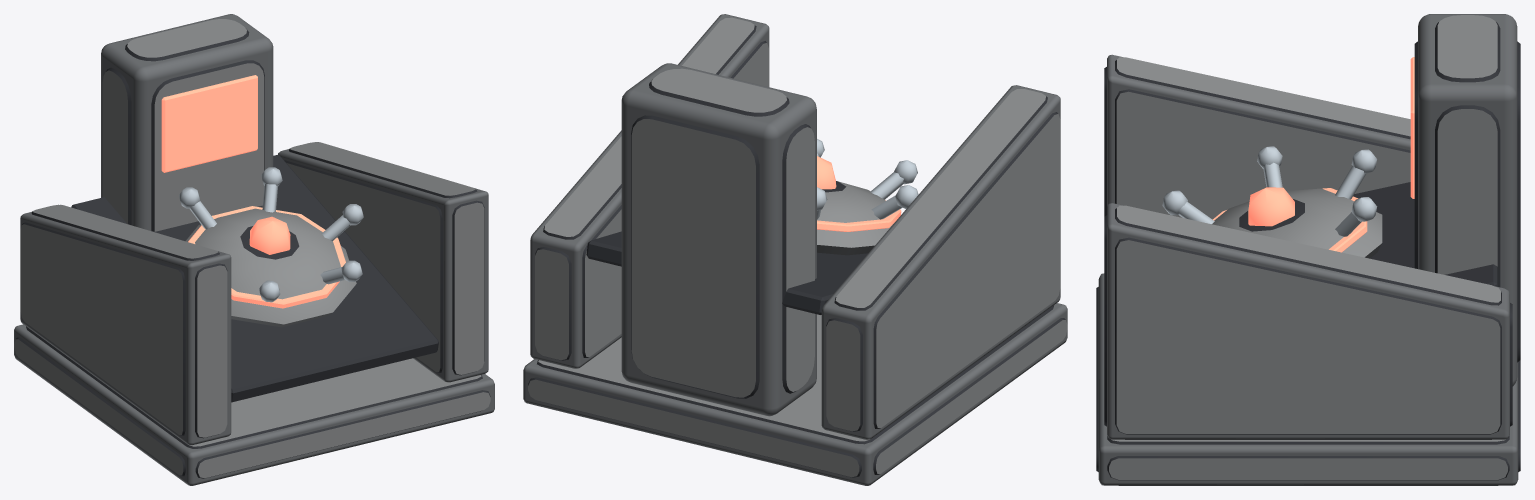
The model's file is R4X_ExplosiveTrapDeployer.glb.
The picture shows the model from 3 angles, left to right: view 1: azimuth 30°, elevation 25°; view 2: azimuth 150°, elevation 25°; view 3: azimuth 270°, elevation 25°; orthographic projection. The views are drawn at different scales.
Visible parts, largest first — view 1: R4X_ExplosiveTrapDeployer_Body; view 2: R4X_ExplosiveTrapDeployer_Body; view 3: R4X_ExplosiveTrapDeployer_Body.
Boxes of the visible parts, x1,y1,x2,y2 form: R4X_ExplosiveTrapDeployer_Body: [14, 14, 494, 485]; R4X_ExplosiveTrapDeployer_Body: [523, 14, 1067, 485]; R4X_ExplosiveTrapDeployer_Body: [1096, 14, 1520, 485].
Size of the model in its own units: 0.52 by 0.48 by 0.52.
